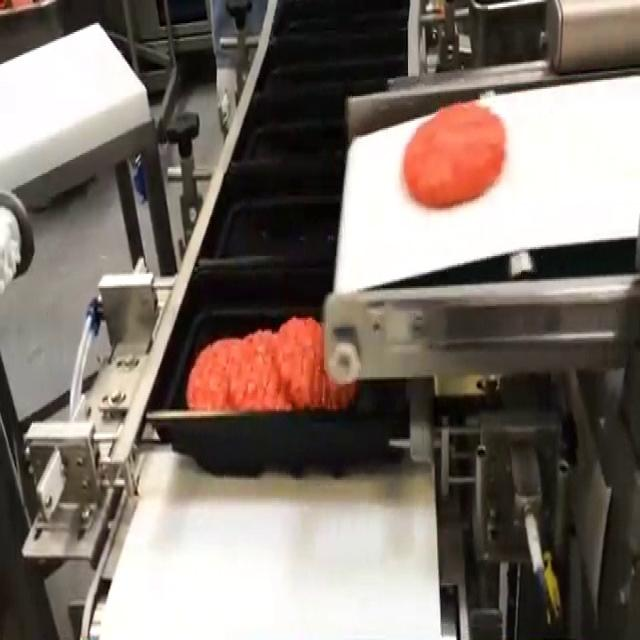hamburguer: (403, 101, 506, 206)
